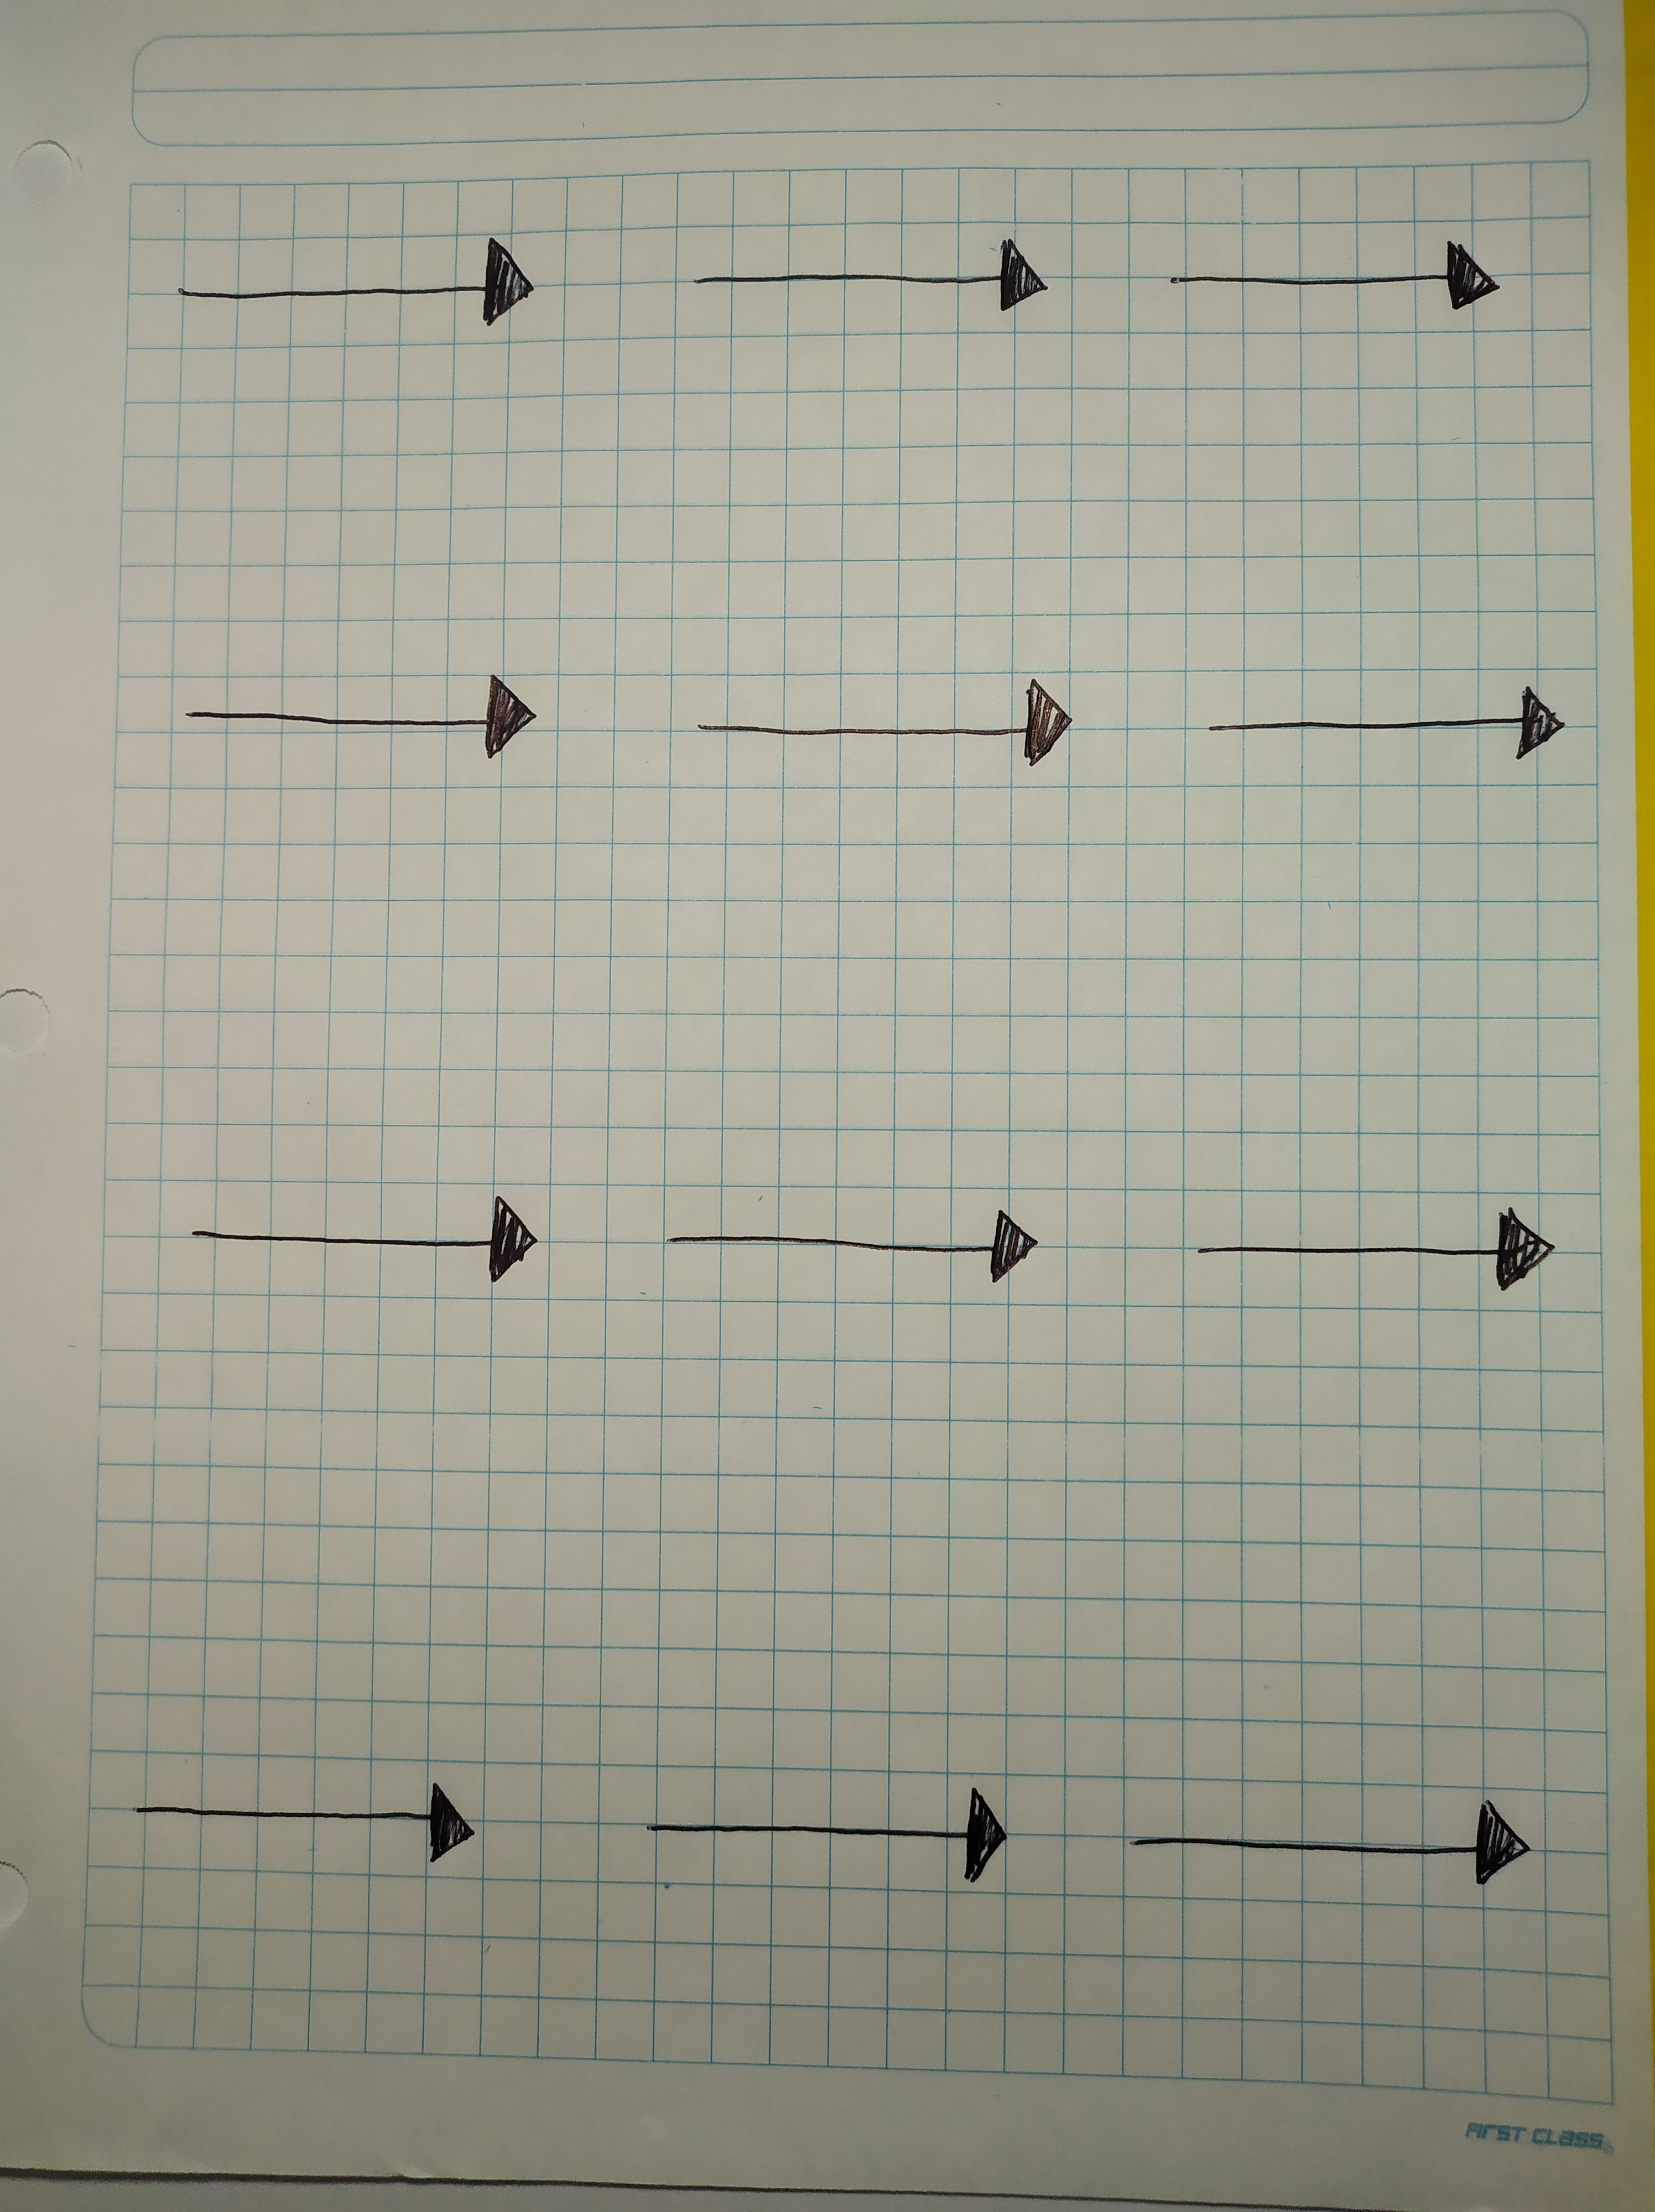arrow_line_right: (1163, 1182, 1587, 1329), (626, 1169, 1067, 1310), (614, 1769, 1053, 1910), (1107, 1776, 1552, 1913), (162, 1161, 556, 1301), (111, 1762, 528, 1887), (158, 645, 555, 770), (1177, 666, 1587, 784), (664, 667, 1087, 780), (148, 226, 563, 341), (1142, 219, 1532, 339), (668, 221, 1080, 334)
